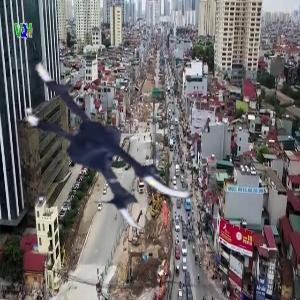drone: (15, 37, 215, 237)
